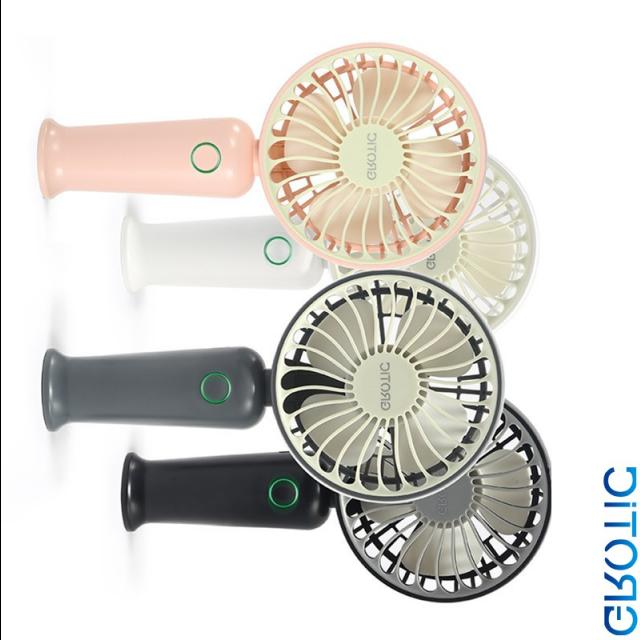fan: (36, 40, 558, 608)
